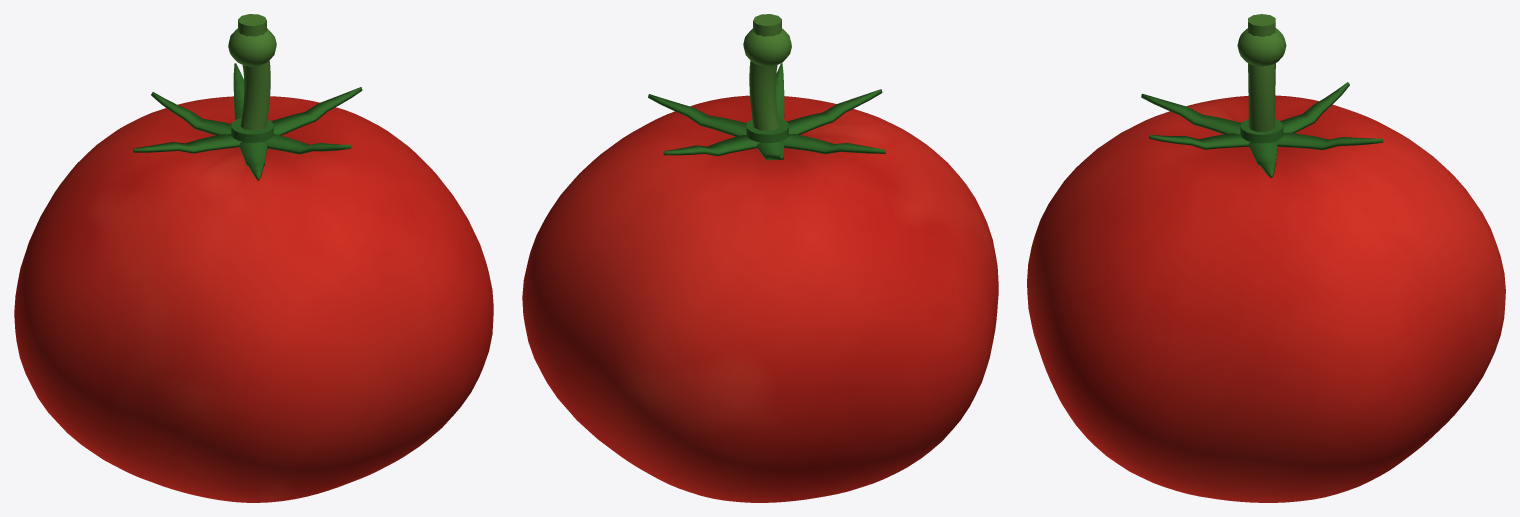
File: tomato_ripe.glb
3 views of the same model, side by side, from view 1: azimuth 30°, elevation 25°; view 2: azimuth 150°, elevation 25°; view 3: azimuth 270°, elevation 25° (orthographic).
Parts seen in each view (by area): view 1: tomato_ripe, calyx, pedicel, knuckle, calyx_hub, proximal_stub; view 2: tomato_ripe, calyx, pedicel, knuckle, calyx_hub, proximal_stub; view 3: tomato_ripe, calyx, pedicel, knuckle, calyx_hub, proximal_stub.
Boxes of the visible parts, left/top/right/bottom form: tomato_ripe: left=14, top=96, right=493, bottom=502; calyx: left=133, top=63, right=362, bottom=180; pedicel: left=240, top=60, right=270, bottom=130; knuckle: left=228, top=28, right=276, bottom=66; calyx_hub: left=231, top=117, right=273, bottom=142; proximal_stub: left=238, top=14, right=266, bottom=36; tomato_ripe: left=522, top=95, right=998, bottom=502; calyx: left=648, top=63, right=885, bottom=160; pedicel: left=749, top=60, right=779, bottom=130; knuckle: left=743, top=28, right=791, bottom=66; calyx_hub: left=746, top=118, right=788, bottom=142; proximal_stub: left=753, top=14, right=781, bottom=36; tomato_ripe: left=1027, top=95, right=1505, bottom=502; calyx: left=1141, top=82, right=1383, bottom=177; pedicel: left=1248, top=63, right=1275, bottom=131; knuckle: left=1237, top=28, right=1286, bottom=66; calyx_hub: left=1240, top=119, right=1283, bottom=143; proximal_stub: left=1248, top=14, right=1275, bottom=36.
Bounding box in the file's own units: 0.0624 × 0.0656 × 0.0624.
Materials: 3 (1 with a texture image).
